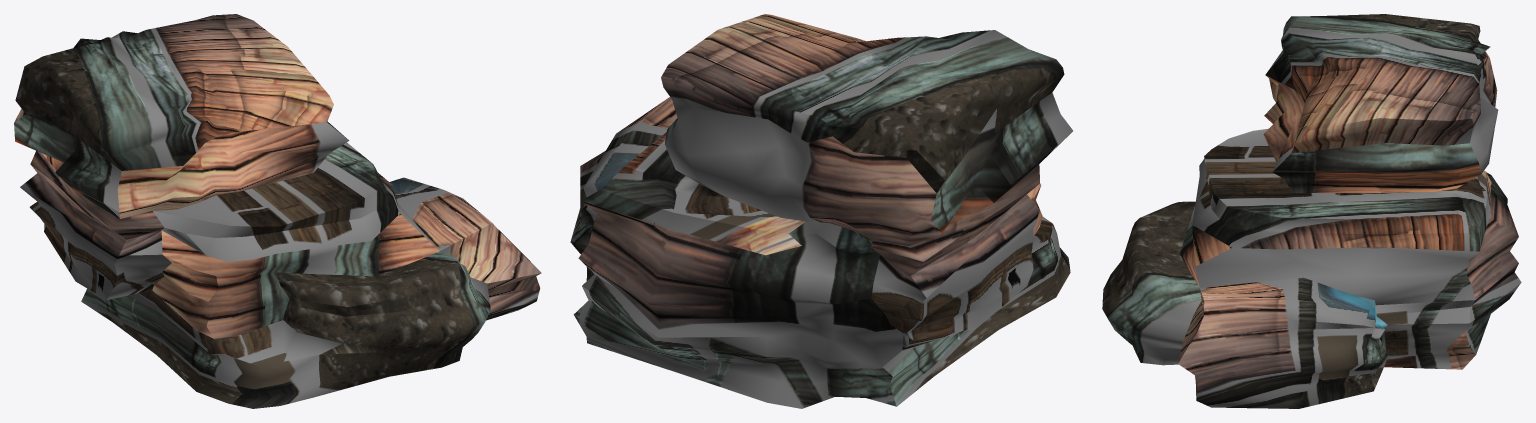
Rendered from rock01.FBX.
3 views of the same model, side by side, from view 1: azimuth 30°, elevation 25°; view 2: azimuth 150°, elevation 25°; view 3: azimuth 270°, elevation 25° (orthographic). The views are drawn at different scales.
Visible parts, largest first — view 1: rock01; view 2: rock01; view 3: rock01.
Boxes of the visible parts, x1,y1,x2,y2 form: rock01: [14, 14, 541, 408]; rock01: [570, 14, 1072, 408]; rock01: [1102, 14, 1521, 408].
Size of the model in its own units: 1592 by 987 by 1537.
